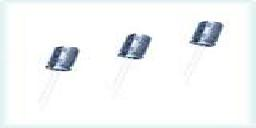Electrolytic-capacitor: (180, 16, 224, 104), (107, 29, 155, 98), (35, 36, 72, 116)
